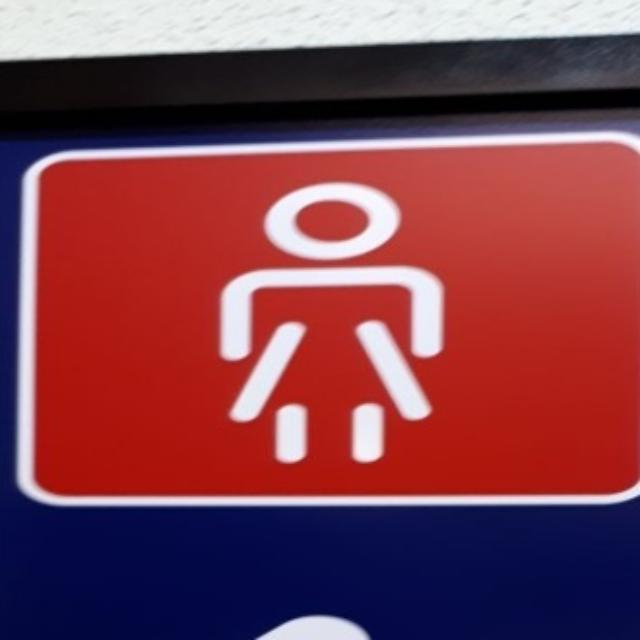wc nu: (21, 132, 638, 504)
